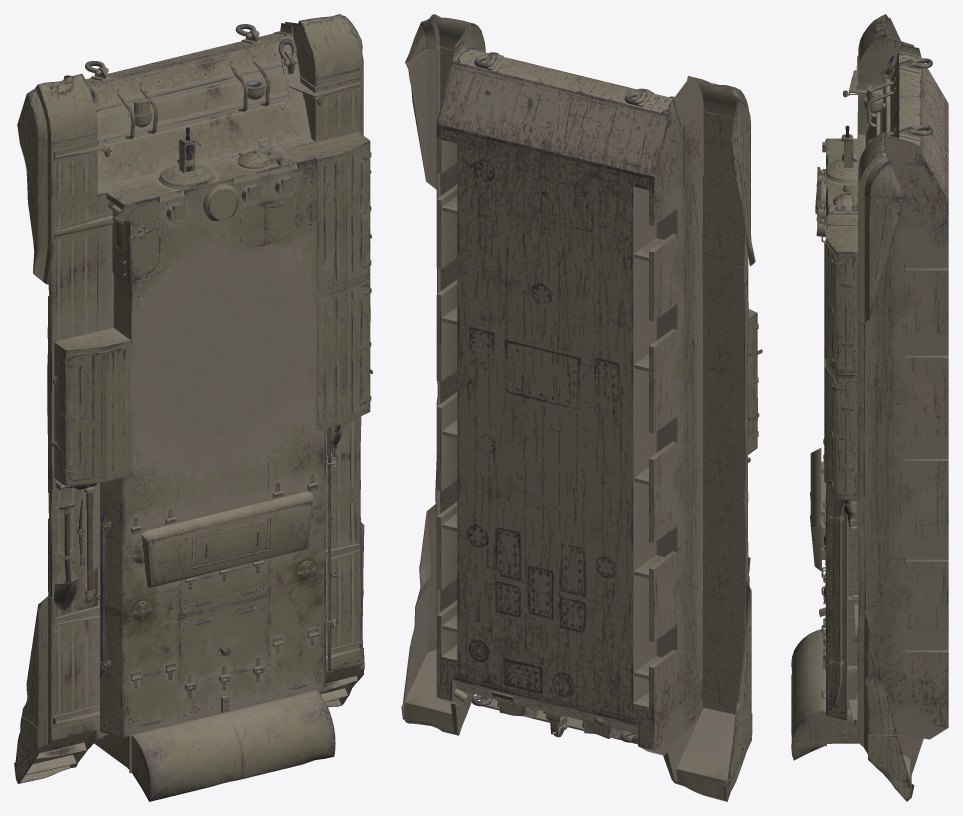
File: Hull.glb
3 renders of one model, left to right at view 1: azimuth 30°, elevation 25°; view 2: azimuth 150°, elevation 25°; view 3: azimuth 270°, elevation 25°, orthographic. The views are drawn at different scales.
Parts seen in each view (by area): view 1: set_0_group_0; view 2: set_0_group_0; view 3: set_0_group_0.
Part boxes in pixels (x1=…): set_0_group_0: x1=14, y1=14, x2=372, y2=801; set_0_group_0: x1=401, y1=14, x2=762, y2=801; set_0_group_0: x1=791, y1=14, x2=948, y2=801.
Size of the model in its own units: 3.11 by 6.33 by 1.39.
Materials: 1 (1 with a texture image).
